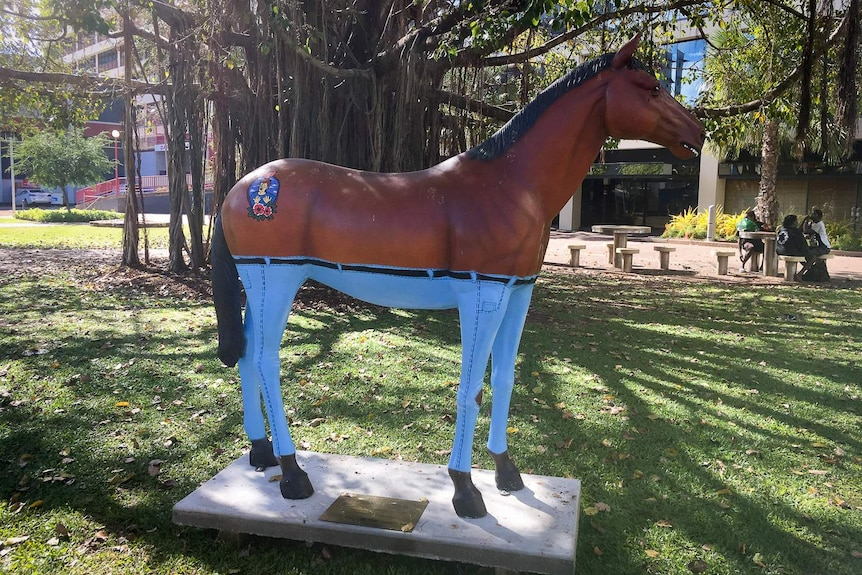Horse: (180, 38, 734, 476)
Person: (804, 205, 830, 279), (732, 210, 760, 267), (782, 216, 803, 283)
